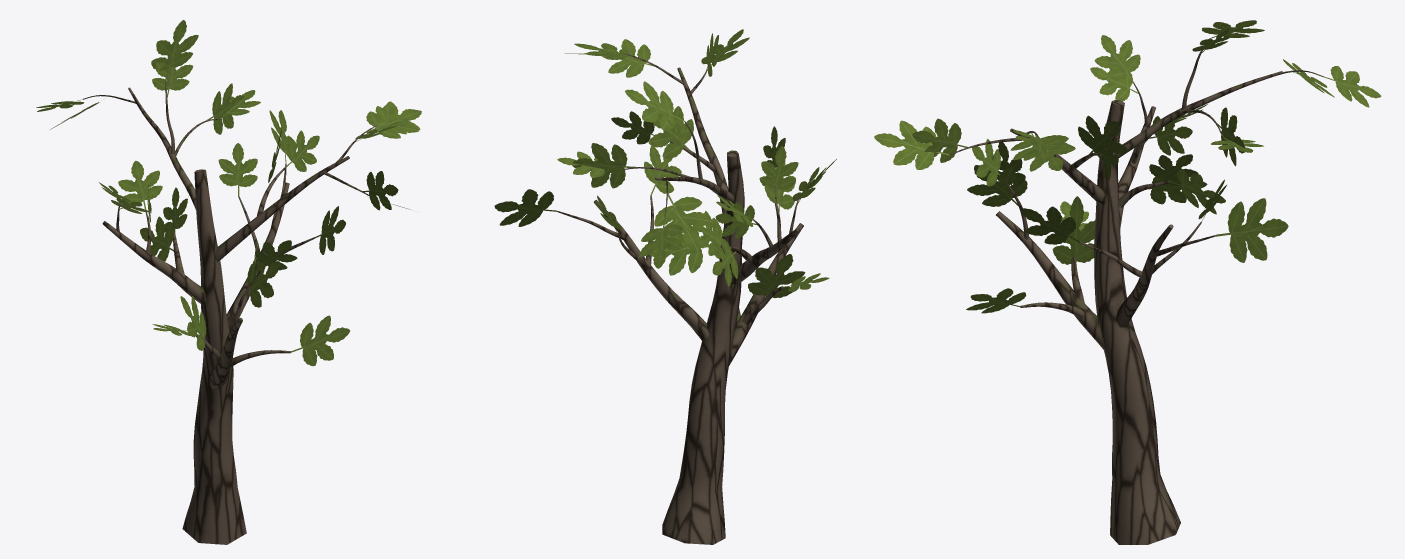
File: kit_tree.glb
3 views of the same model, side by side, from view 1: azimuth 30°, elevation 25°; view 2: azimuth 150°, elevation 25°; view 3: azimuth 270°, elevation 25° (orthographic). The views are drawn at different scales.
Visible parts, largest first — view 1: Trunk, Leaves; view 2: Leaves, Trunk; view 3: Trunk, Leaves.
Part boxes in pixels (box(x1,y1,x2,y2)): Trunk: box(83, 79, 377, 544); Leaves: box(36, 20, 421, 366); Leaves: box(494, 29, 836, 299); Trunk: box(556, 53, 803, 544); Trunk: box(949, 38, 1323, 544); Leaves: box(874, 20, 1381, 313).
Size of the model in its own units: 2.89 by 4.35 by 3.82.
Materials: 2 (2 with a texture image).
